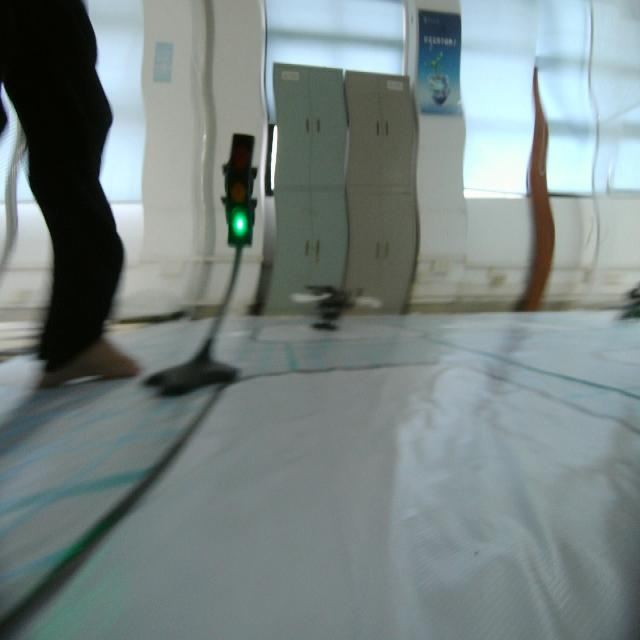green: (210, 116, 264, 257)
